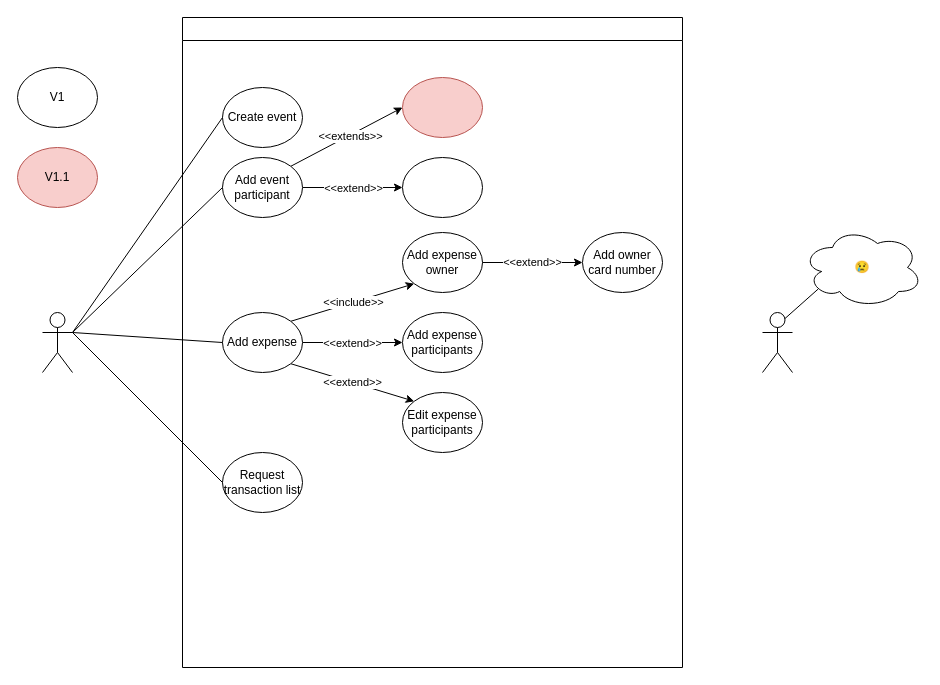
Image size: 940x685. Some labels were removed from this diagram. Each missing label, with the box of its shape:
Add external participant: (402, 76, 482, 138)
ExpenseTrackingBot: (182, 16, 682, 668)
Group with another participant: (402, 156, 482, 218)
System: (762, 312, 792, 372)
User: (42, 312, 72, 372)
